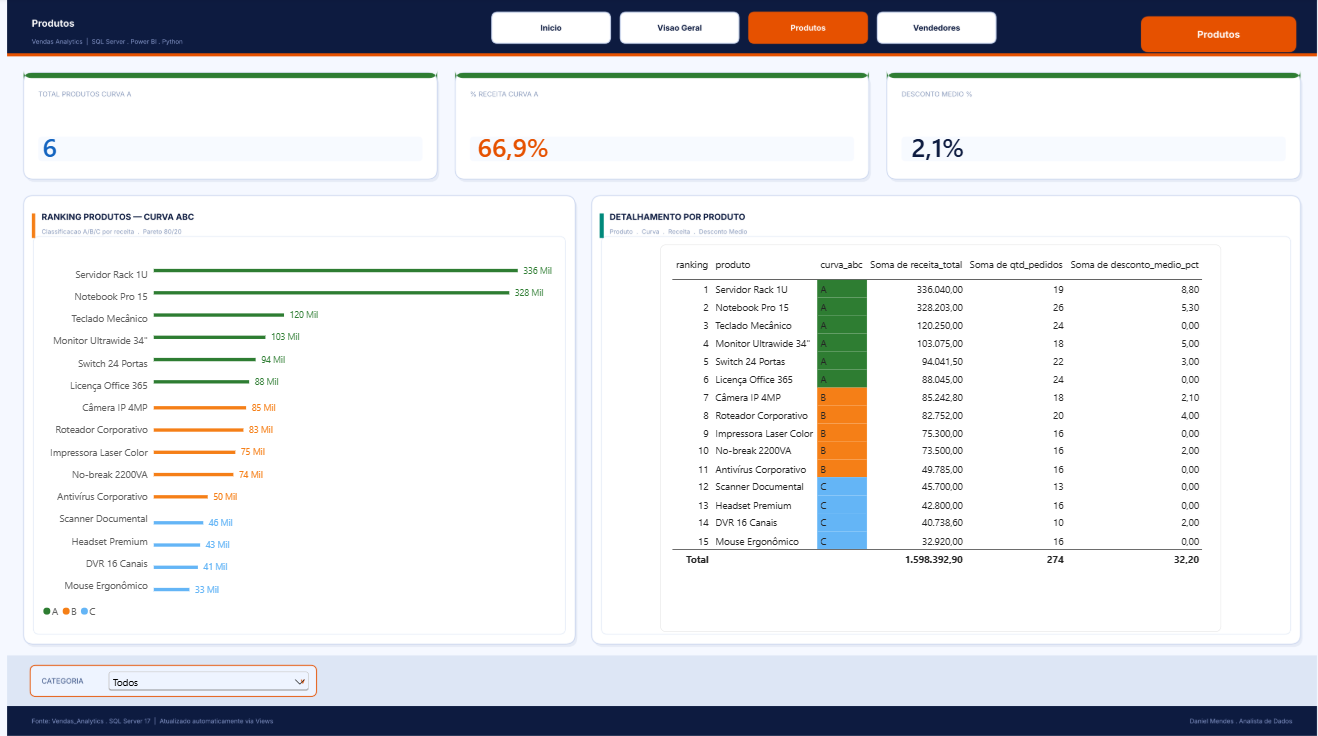

The page's visual inventory and layout, read from the dashboard file:
{"tool":"powerbi","page":{"name":"Produtos","canvas":[1920,1080],"ordinal":2},"visuals":[{"type":"actionButton","box":[714.9,22,169.4,41.8],"z":0},{"type":"actionButton","box":[899.7,22,169.4,41.8],"z":1000},{"type":"actionButton","box":[1273.7,22,173.8,41.8],"z":2000},{"type":"cardVisual","fields":{"Data":["_Medidas.Total Produtos A"]},"box":[46.2,176,563.2,83.6],"z":3000},{"type":"cardVisual","fields":{"Data":["_Medidas.% Receita Curva A"]},"box":[677.5,176,563.2,83.6],"z":4000},{"type":"cardVisual","fields":{"Data":["_Medidas.Desconto Médio Produtos"]},"box":[1304.5,176,563.2,83.6],"z":5000},{"type":"clusteredBarChart","fields":{"Category":["vw_ranking_produtos_abc.produto"],"Series":["vw_ranking_produtos_abc.curva_abc"],"Y":["Sum(vw_ranking_produtos_abc.receita_total)"]},"box":[46.2,358.6,769.9,561],"z":6000},{"type":"tableEx","fields":{"Values":["vw_ranking_produtos_abc.ranking","vw_ranking_produtos_abc.produto","vw_ranking_produtos_abc.curva_abc","Sum(vw_ranking_produtos_abc.receita_total)","Sum(vw_ranking_produtos_abc.qtd_pedidos)","Sum(vw_ranking_produtos_abc.desconto_medio_pct)"]},"box":[956.9,358.6,811.7,561],"z":7000},{"type":"slicer","fields":{"Values":["vw_ranking_produtos_abc.categoria"]},"box":[154,972.3,299.2,39.6],"z":8000}]}

Visuals, with their boxes in screenshot pixels (x1, y1, x2, y2), scaled from the page's 1920x1080 canvas onto the 1318x736 screenshot:
actionButton: x1=491, y1=15, x2=607, y2=43
actionButton: x1=618, y1=15, x2=734, y2=43
actionButton: x1=874, y1=15, x2=994, y2=43
cardVisual - _Medidas.Total Produtos A: x1=32, y1=120, x2=418, y2=177
cardVisual - _Medidas.% Receita Curva A: x1=465, y1=120, x2=852, y2=177
cardVisual - _Medidas.Desconto Médio Produtos: x1=895, y1=120, x2=1282, y2=177
clusteredBarChart - vw_ranking_produtos_abc.produto x vw_ranking_produtos_abc.curva_abc: x1=32, y1=244, x2=560, y2=627
tableEx - vw_ranking_produtos_abc.ranking x vw_ranking_produtos_abc.produto: x1=657, y1=244, x2=1214, y2=627
slicer - vw_ranking_produtos_abc.categoria: x1=106, y1=663, x2=311, y2=690
